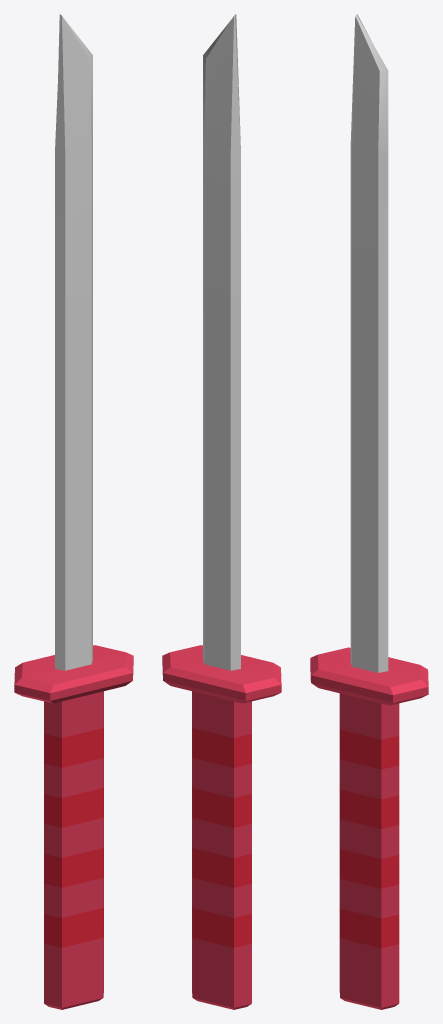
Rendered from Katana.fbx.
3 views of the same model, side by side, from view 1: azimuth 30°, elevation 25°; view 2: azimuth 150°, elevation 25°; view 3: azimuth 330°, elevation 25° (orthographic).
Parts seen in each view (by area): view 1: Katana; view 2: Katana; view 3: Katana.
Part boxes in pixels (x1,y1,x2,y2): Katana: (14,14,133,1009); Katana: (162,14,281,1009); Katana: (310,14,428,1009).
Size of the model in its own units: 0.2074 by 1.64 by 0.1062.
